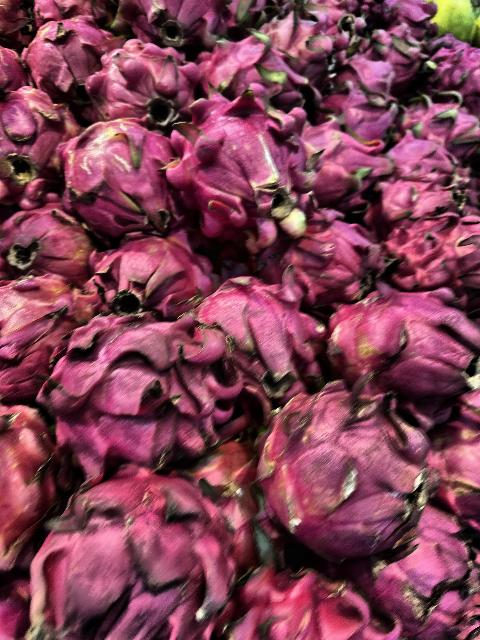buah-naga-matang: (52, 462, 226, 640), (257, 387, 435, 558), (37, 308, 235, 456), (174, 94, 317, 240), (334, 290, 480, 404), (197, 279, 324, 403), (60, 110, 180, 240), (374, 502, 480, 640), (0, 270, 110, 398), (0, 393, 64, 571), (274, 204, 378, 310), (93, 43, 202, 144), (194, 29, 312, 115), (88, 239, 208, 323), (0, 74, 74, 204), (378, 134, 472, 220), (6, 195, 96, 283), (298, 121, 386, 209), (27, 14, 107, 106), (304, 78, 410, 142), (388, 217, 480, 285), (110, 0, 226, 48)
